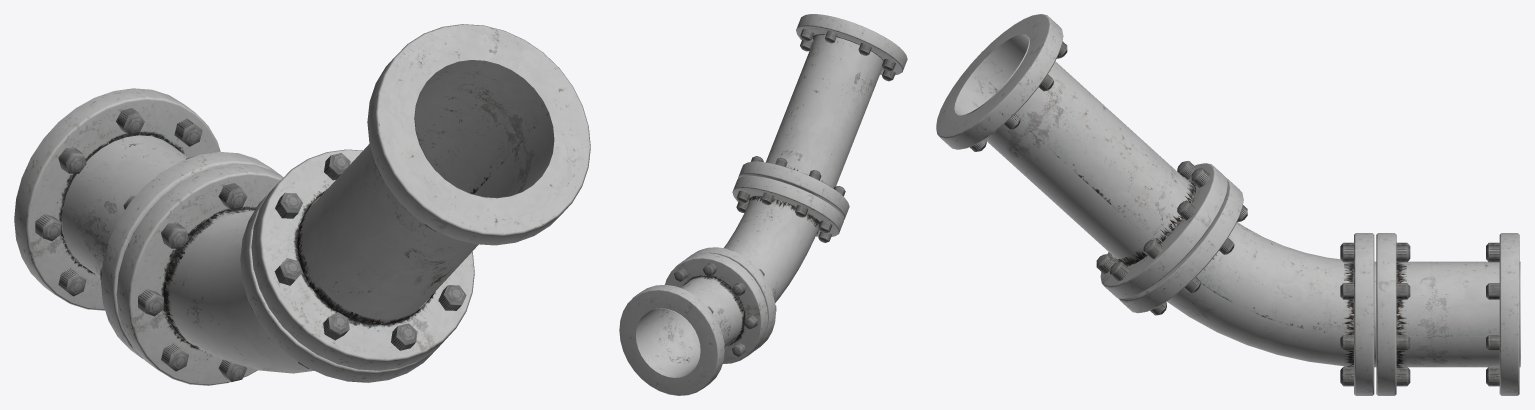
File: Modular_Small_Pipe_Angle45degre.fbx
3 renders of one model, left to right at view 1: azimuth 30°, elevation 25°; view 2: azimuth 150°, elevation 25°; view 3: azimuth 270°, elevation 25°, orthographic. The views are drawn at different scales.
Parts seen in each view (by area): view 1: Modular_Small_Pipe_Angle45degre_LOD0; view 2: Modular_Small_Pipe_Angle45degre_LOD0; view 3: Modular_Small_Pipe_Angle45degre_LOD0.
Part boxes in pixels (x1,y1,x2,y2): Modular_Small_Pipe_Angle45degre_LOD0: (14, 24, 590, 385); Modular_Small_Pipe_Angle45degre_LOD0: (619, 14, 907, 395); Modular_Small_Pipe_Angle45degre_LOD0: (936, 14, 1520, 395).
Size of what is drawn, in the model's own units: 0.617 by 1.52 by 2.21.
